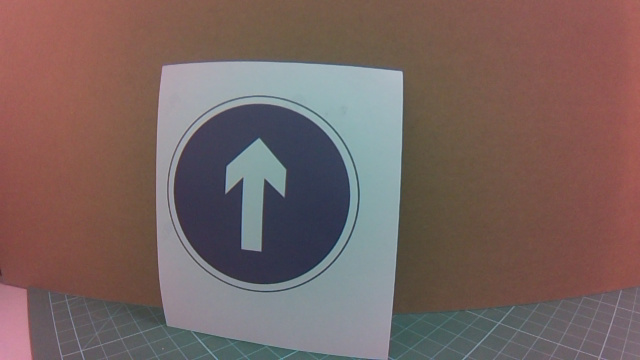forward: (173, 84, 356, 290)
